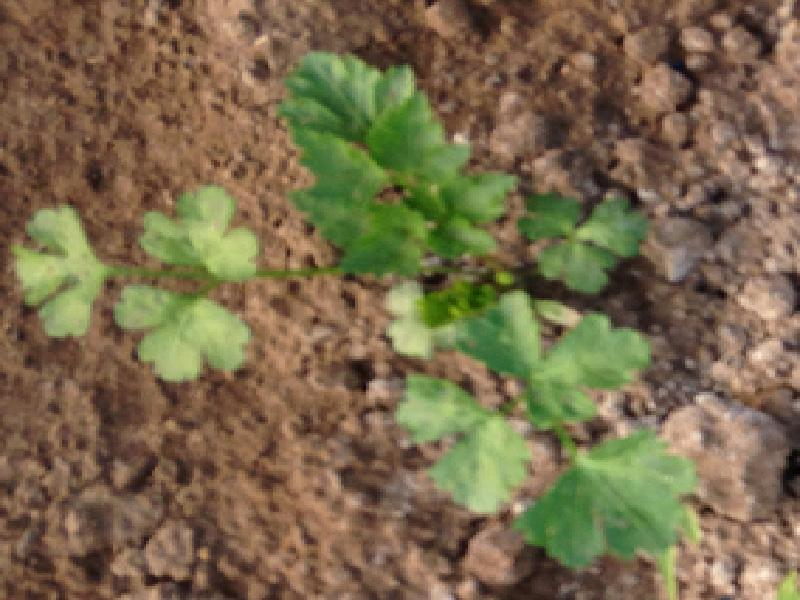radish: (10, 49, 702, 571)
